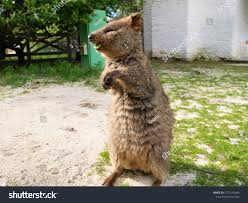quokka: (77, 11, 188, 192)
